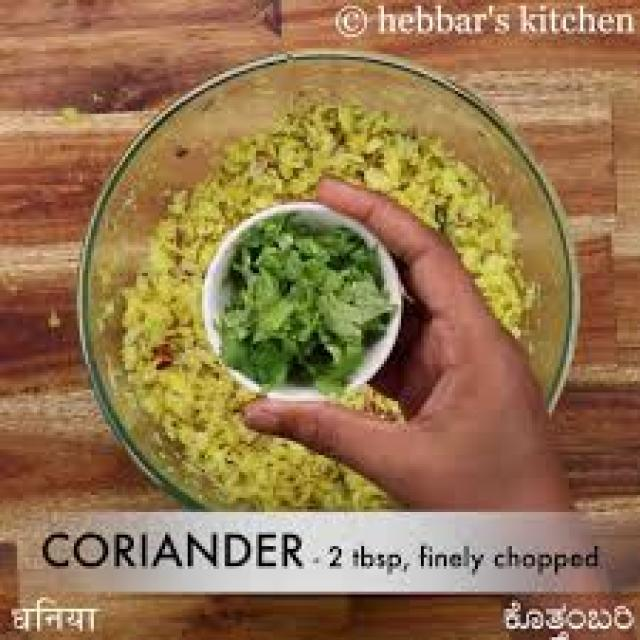POHA: (116, 104, 534, 500)
